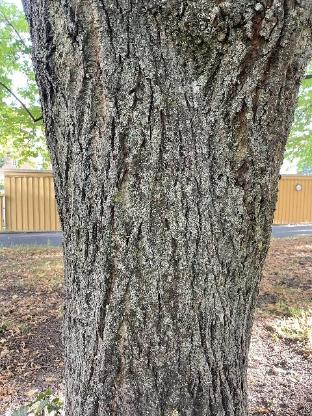tree: (15, 0, 310, 410)
